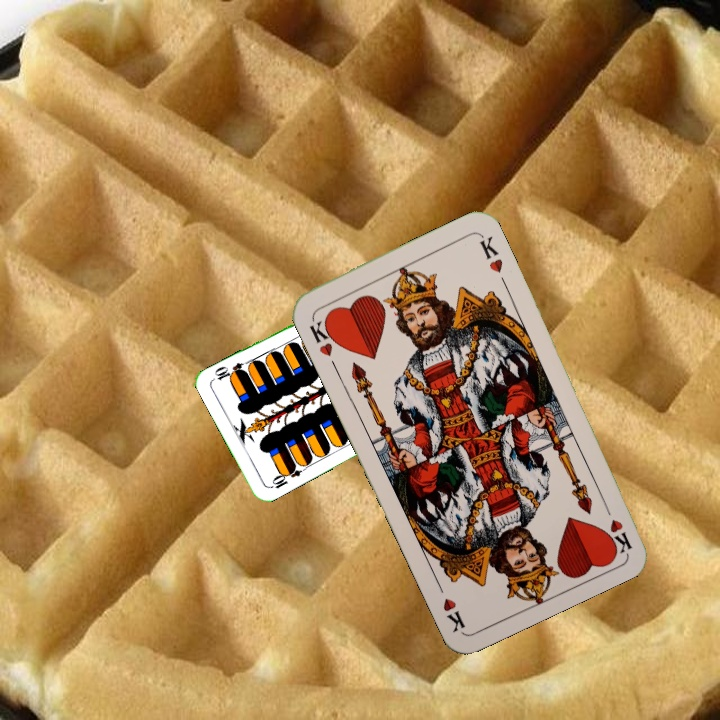E10: (266, 461, 304, 491)
HK: (599, 497, 635, 555), (305, 313, 342, 360)
